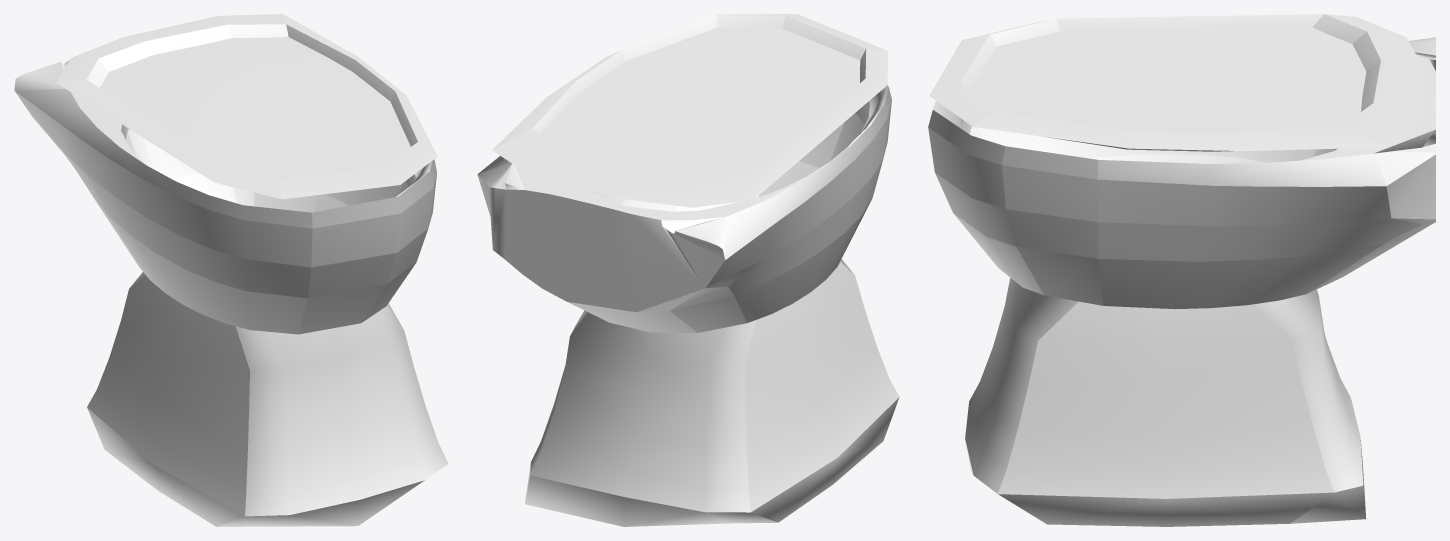
File: toilet.obj
3 views of the same model, side by side, from view 1: azimuth 30°, elevation 25°; view 2: azimuth 150°, elevation 25°; view 3: azimuth 270°, elevation 25° (orthographic). The views are drawn at different scales.
Visible parts, largest first — view 1: uploads_files_2921805_Toilet:Mesh2; view 2: uploads_files_2921805_Toilet:Mesh2; view 3: uploads_files_2921805_Toilet:Mesh2.
Part boxes in pixels (<box>): uploads_files_2921805_Toilet:Mesh2: <box>14,14,448,526</box>; uploads_files_2921805_Toilet:Mesh2: <box>477,14,899,526</box>; uploads_files_2921805_Toilet:Mesh2: <box>928,14,1435,526</box>.
Size of the model in its own units: 0.3469 by 0.4411 by 0.5113.
1 material, 1 textured.
